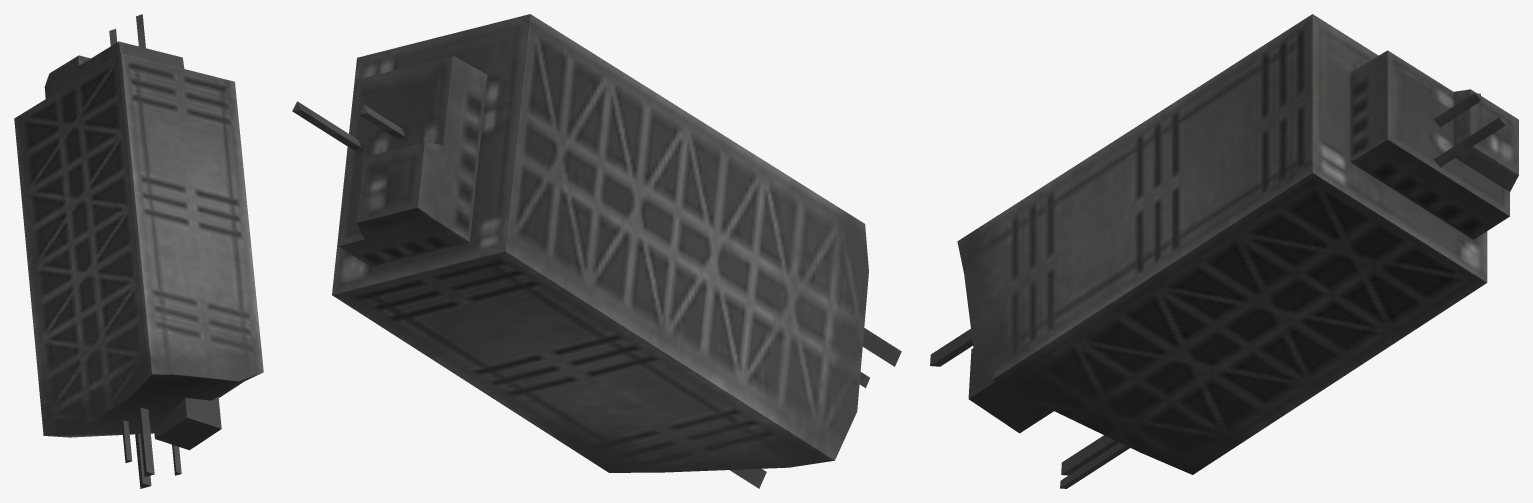
The model's file is skyBuildingAAA_pos_grp (5).fbx.
3 renders of one model, left to right at view 1: azimuth 30°, elevation 25°; view 2: azimuth 150°, elevation 25°; view 3: azimuth 270°, elevation 25°, orthographic. The views are drawn at different scales.
Visible parts, largest first — view 1: skyBuildingAAA_geo; view 2: skyBuildingAAA_geo; view 3: skyBuildingAAA_geo.
Part boxes in pixels (x1,y1,x2,y2): skyBuildingAAA_geo: (14,14,263,488); skyBuildingAAA_geo: (292,14,901,488); skyBuildingAAA_geo: (930,14,1518,488).
Size of the model in its own units: 4.72 by 6.39 by 6.73.
